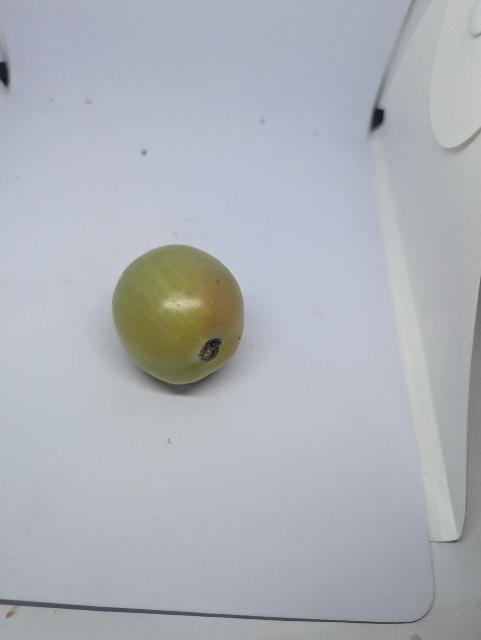breaker: (106, 234, 255, 393)
